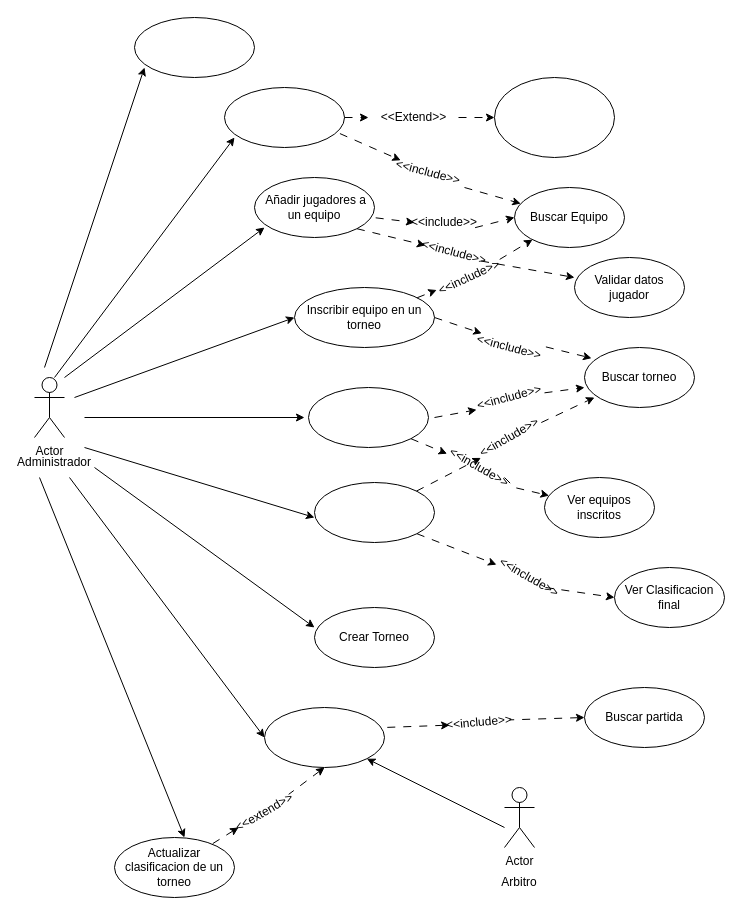
The diagram is 742 pixels wide and 915 high, and some of its shapes have lost their labels. The centre of each missing label's shape, as x and y in pixels:
Asignar premios a los ganadores: (x=374, y=512)
Consultar lista de equipos y jugadores: (x=284, y=117)
Generar emparejamientos de partidas: (x=368, y=417)
Registrar Equipo: (x=194, y=47)
Registrar resultado de una partida: (x=324, y=737)
Ver detalles del jugador: (x=554, y=117)
